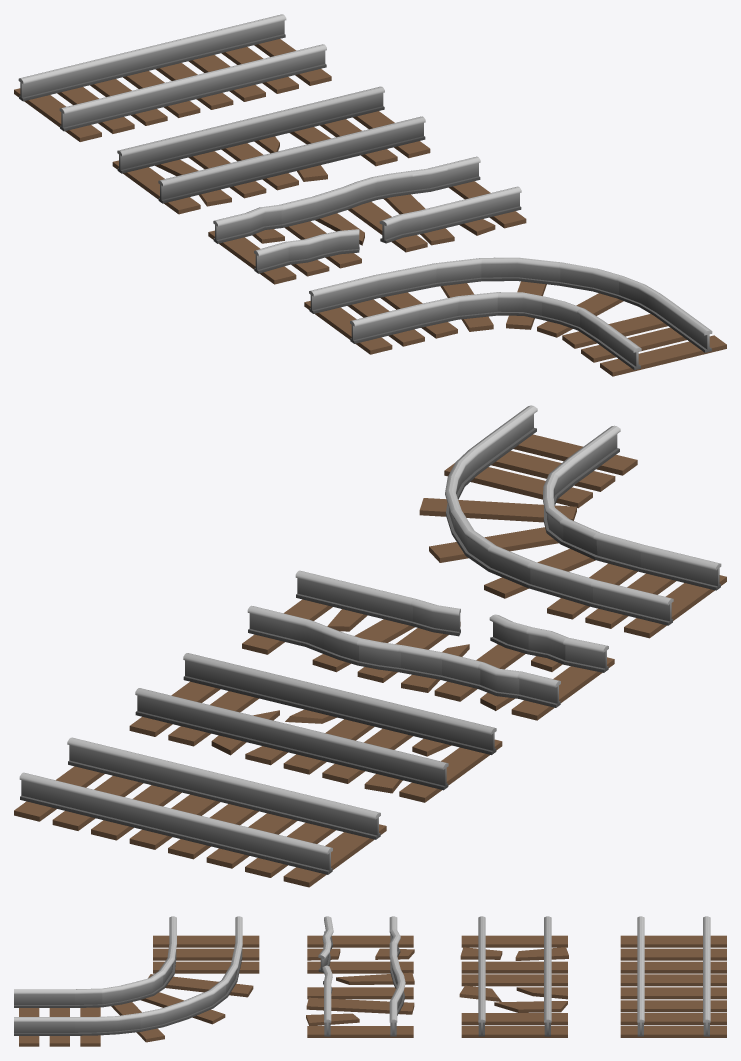
The model's file is trilhos.fbx.
3 views of the same model, one above another, from view 1: azimuth 30°, elevation 25°; view 2: azimuth 150°, elevation 25°; view 3: azimuth 270°, elevation 25° (orthographic). The views are drawn at different scales.
Parts seen in each view (by area): view 1: Cube.004, Cube.003, Cube.002, Cube.001; view 2: Cube.004, Cube.003, Cube.002, Cube.001; view 3: Cube.004, Cube.003, Cube.002, Cube.001.
Part boxes in pixels (<box>): Cube.004: <box>304,257,726,376</box>; Cube.003: <box>14,14,331,141</box>; Cube.002: <box>112,86,430,214</box>; Cube.001: <box>208,156,526,284</box>; Cube.004: <box>419,405,726,638</box>; Cube.003: <box>14,737,386,887</box>; Cube.002: <box>129,653,502,802</box>; Cube.001: <box>242,570,614,720</box>; Cube.004: <box>14,916,259,1046</box>; Cube.003: <box>620,916,726,1037</box>; Cube.002: <box>459,916,568,1037</box>; Cube.001: <box>306,916,414,1037</box>.
Bounding box in the file's own units: 1151 × 101 × 3161.
1 material, 1 textured.
